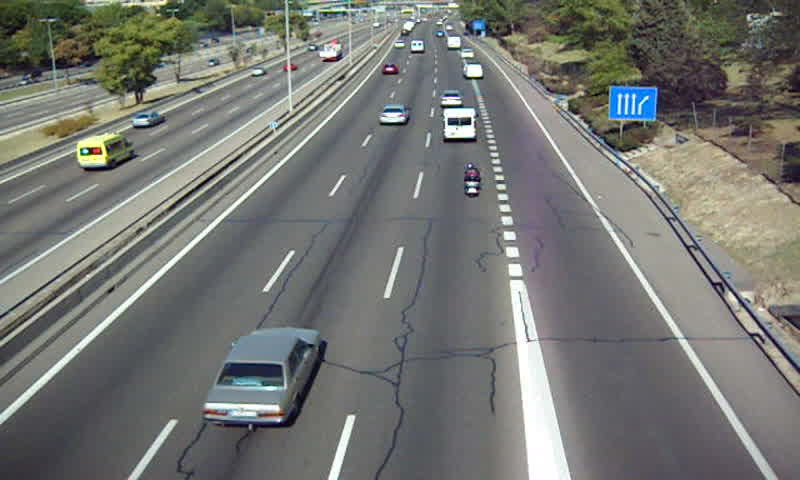car: (202, 328, 322, 426), (378, 104, 410, 126), (438, 90, 463, 108), (380, 64, 396, 77)
motorcycle: (462, 163, 484, 198)
van: (442, 108, 476, 140), (461, 64, 484, 81)
